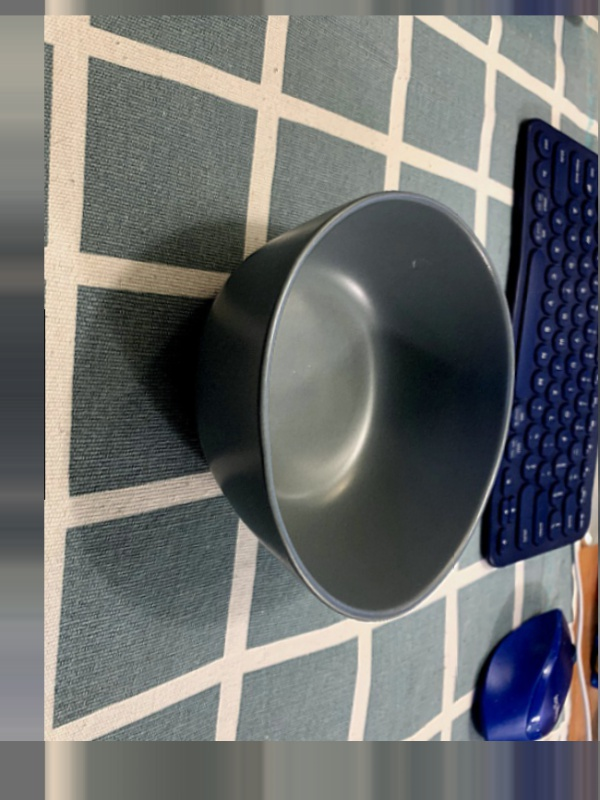bowl_big: (168, 170, 534, 636)
